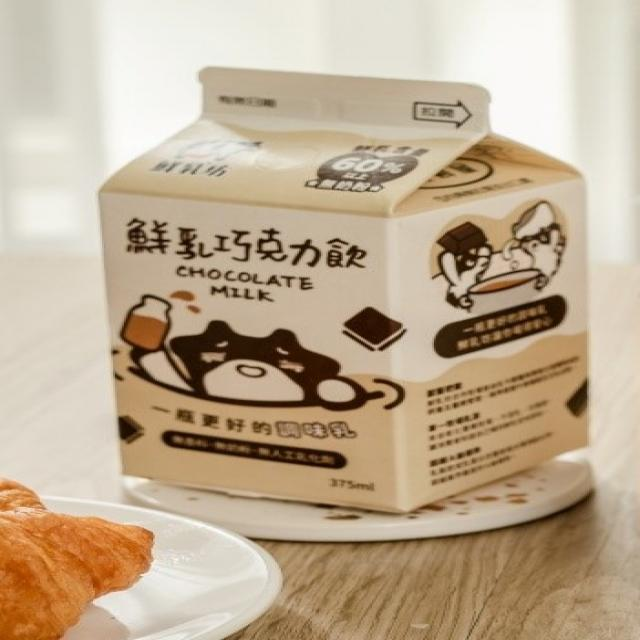non_white_jug: (85, 66, 582, 503)
